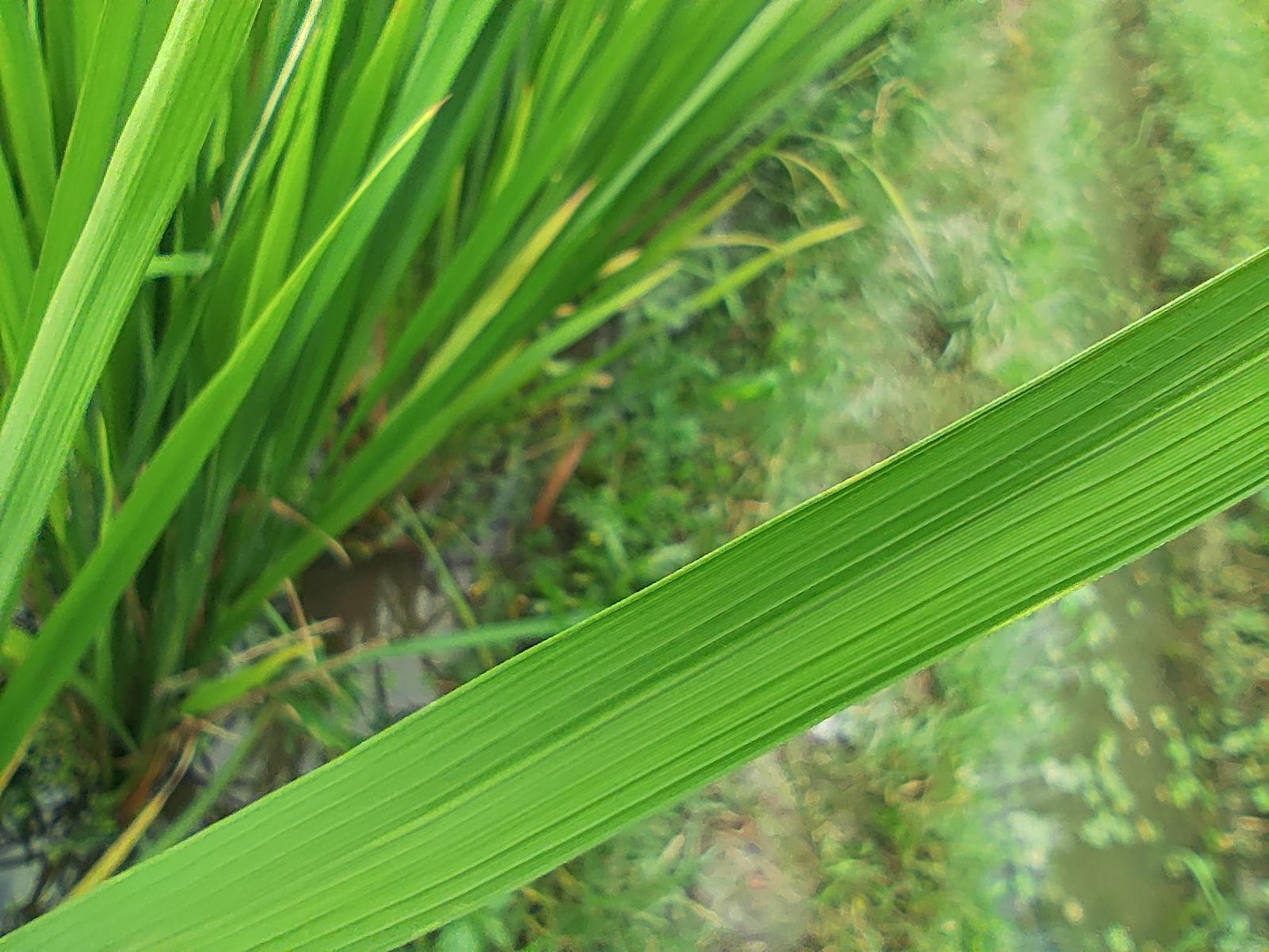Healthy: (342, 0, 1268, 951)
